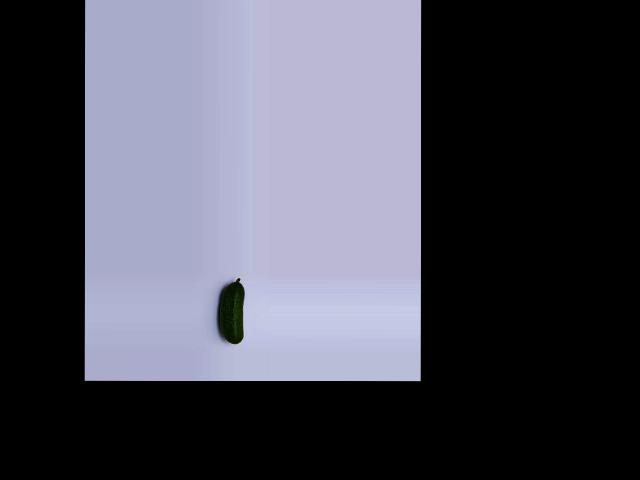cucumber: (218, 278, 244, 344)
